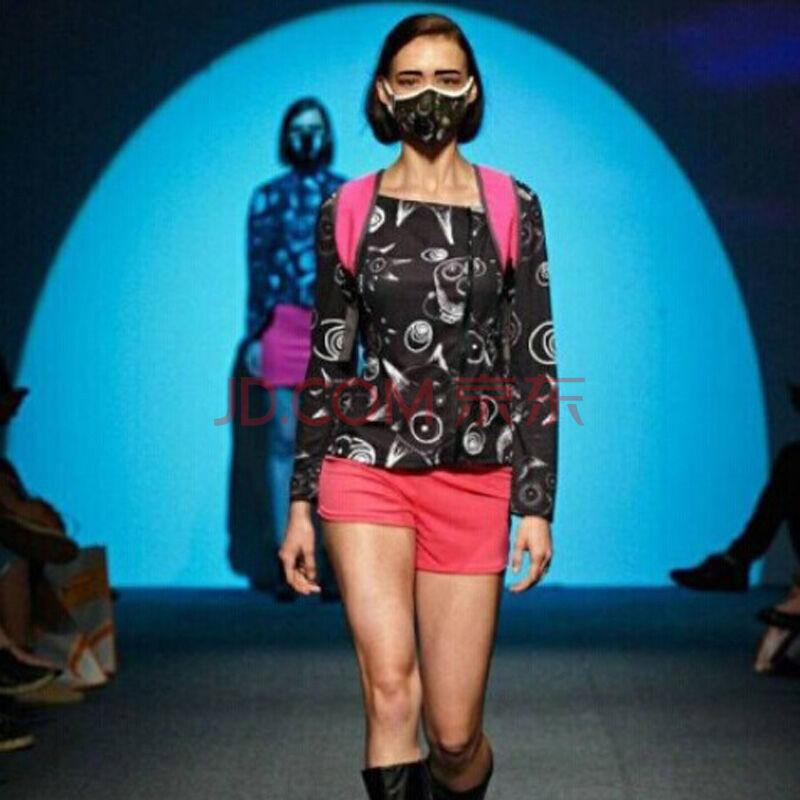OK: (385, 60, 477, 152), (291, 117, 330, 161)
